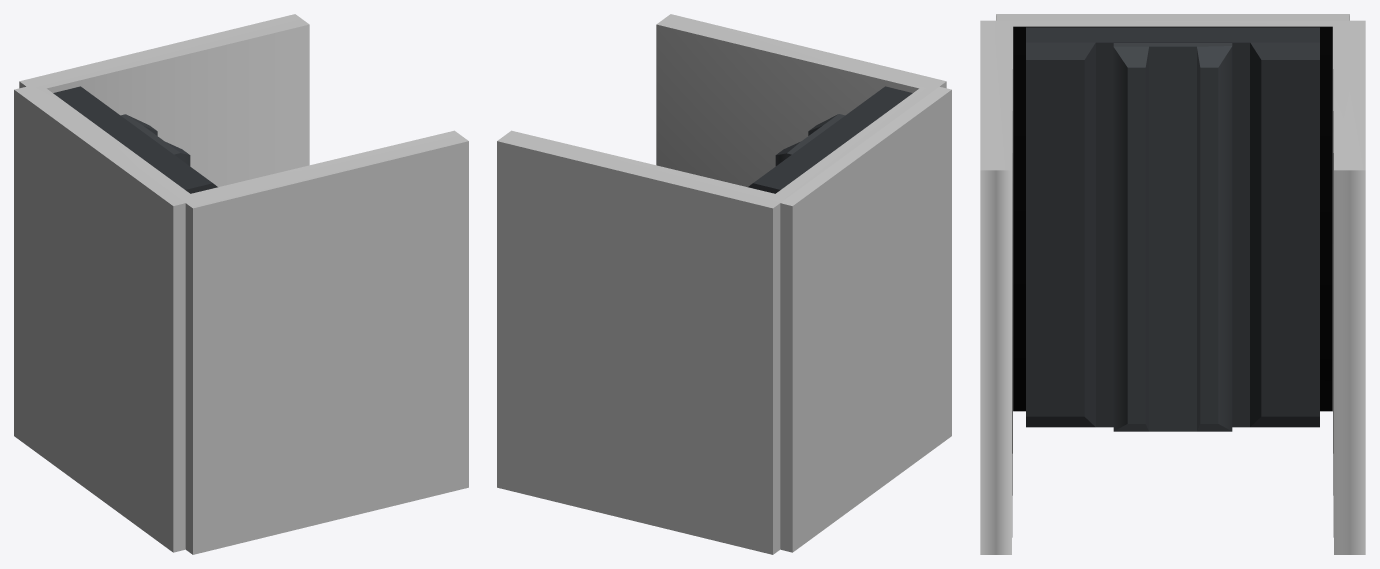
File: SM_Bld_Gate_Fort_Side_Base_01.fbx
3 renders of one model, left to right at view 1: azimuth 30°, elevation 25°; view 2: azimuth 150°, elevation 25°; view 3: azimuth 270°, elevation 25°, orthographic. The views are drawn at different scales.
Parts seen in each view (by area): view 1: SM_Bld_Gate_Fort_Side_Base_01; view 2: SM_Bld_Gate_Fort_Side_Base_01; view 3: SM_Bld_Gate_Fort_Side_Base_01.
Boxes of the visible parts, left/top/right/bottom form: SM_Bld_Gate_Fort_Side_Base_01: left=14, top=14, right=468, bottom=554; SM_Bld_Gate_Fort_Side_Base_01: left=497, top=14, right=951, bottom=554; SM_Bld_Gate_Fort_Side_Base_01: left=980, top=14, right=1365, bottom=554.
Bounding box in the file's own units: 522 × 601 × 545.
